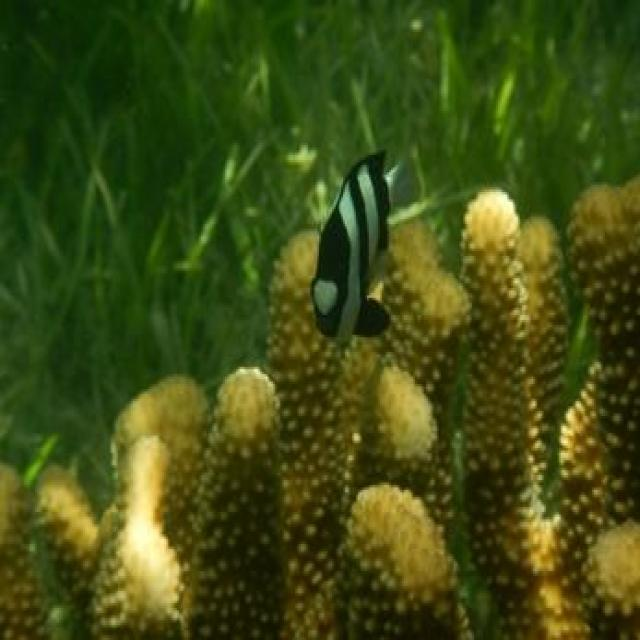ThreeStripedDamselfish: (312, 153, 391, 342)
